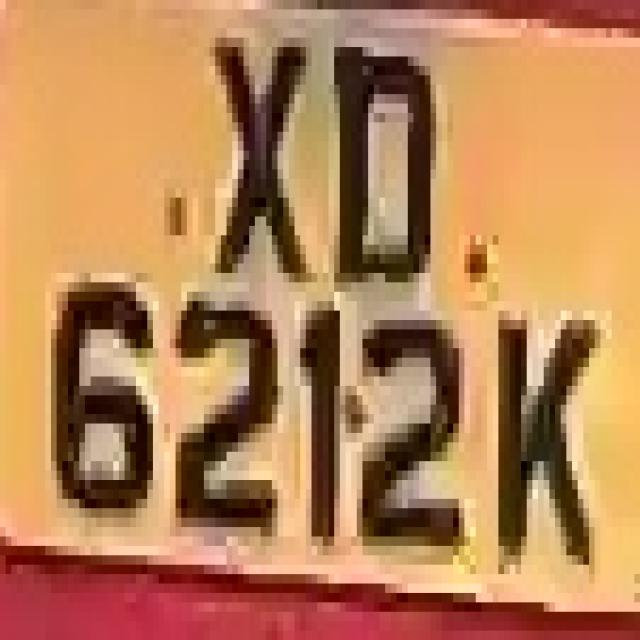1: (277, 264, 357, 584)
2: (351, 273, 470, 583), (164, 264, 289, 556)
6: (34, 254, 170, 546)
D: (312, 18, 453, 310)
K: (476, 264, 600, 602)
X: (198, 9, 306, 292)
